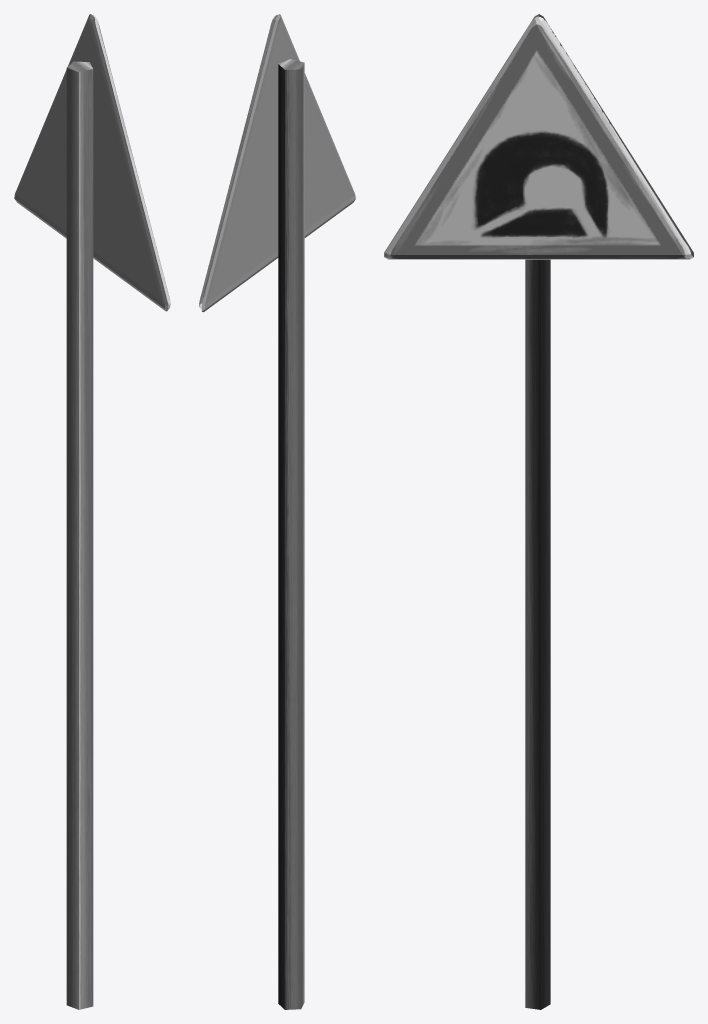
Rendered from sign_tunnel.fbx.
The picture shows the model from 3 angles, left to right: view 1: azimuth 30°, elevation 25°; view 2: azimuth 150°, elevation 25°; view 3: azimuth 270°, elevation 25°; orthographic projection.
Parts seen in each view (by area): view 1: Cylinder.003, Cylinder.005; view 2: Cylinder.003, Cylinder.005; view 3: Cylinder.005, Cylinder.003.
Boxes of the visible parts, x1,y1,x2,y2 form: Cylinder.003: (66, 61, 93, 1009); Cylinder.005: (14, 14, 170, 311); Cylinder.003: (278, 59, 304, 1009); Cylinder.005: (199, 14, 355, 312); Cylinder.005: (384, 14, 693, 259); Cylinder.003: (525, 259, 550, 1009).
Size of the model in its own units: 34.12 by 1038 by 293.
